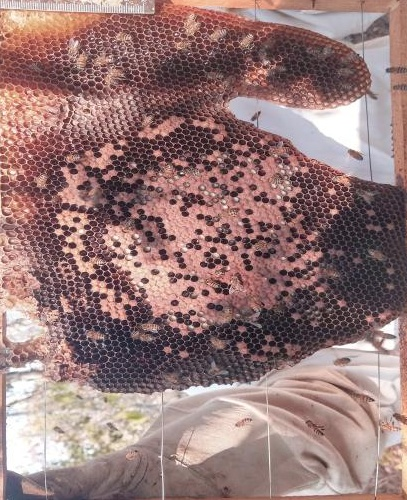cria: (53, 115, 364, 362)
